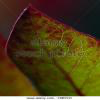Blueberry leaf: (7, 2, 99, 95)
